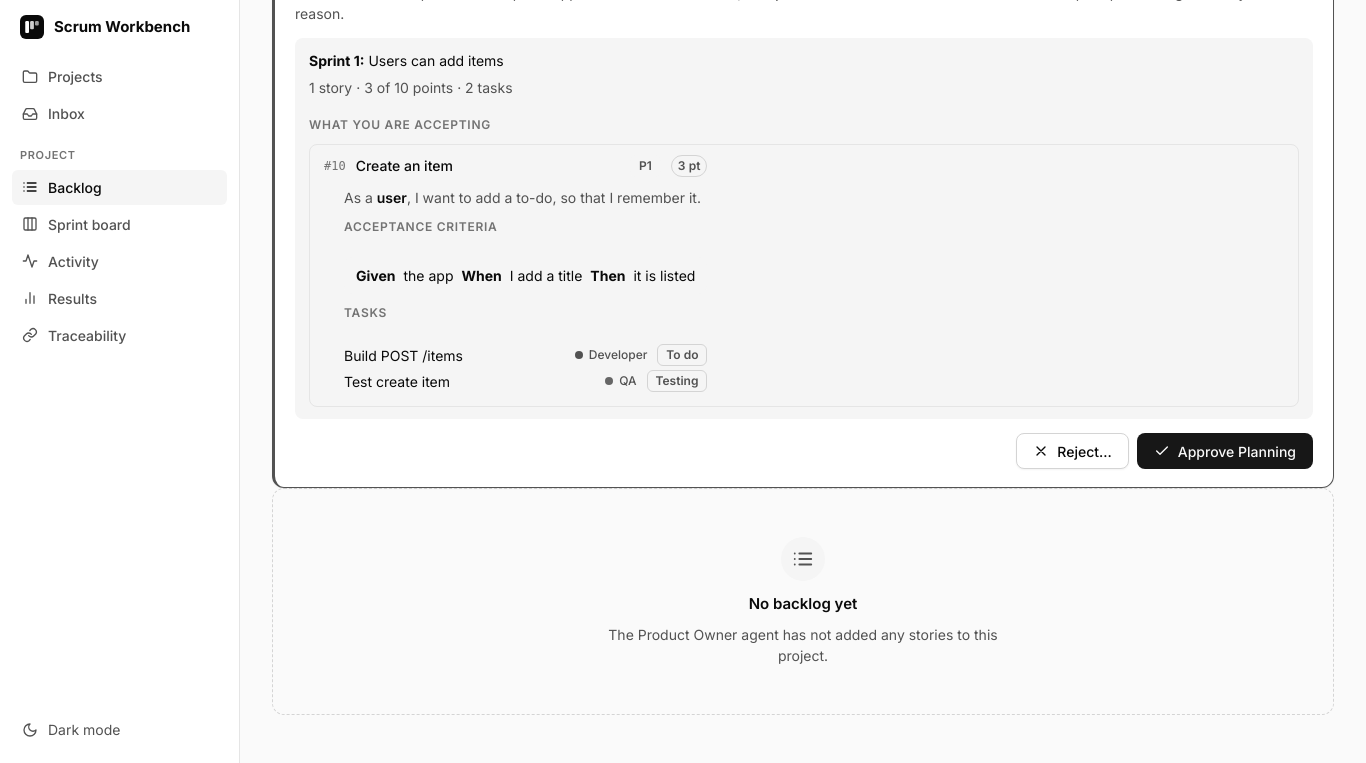
Test: phase controls › asks for approval at a gate and approves
This screenshot has width=1366, height=763.
(page scrolled)
Expected: the heading "What you are accepting" is shown, [309,116,491,132]
Expected: the heading "Acceptance criteria" is shown, [344,218,498,234]
What coordinates should you click on to do the following:
click the button "Approve Planning"
I would click on:
 (1225, 451)
Its box is [1137,433,1313,469].
(page scrolled)
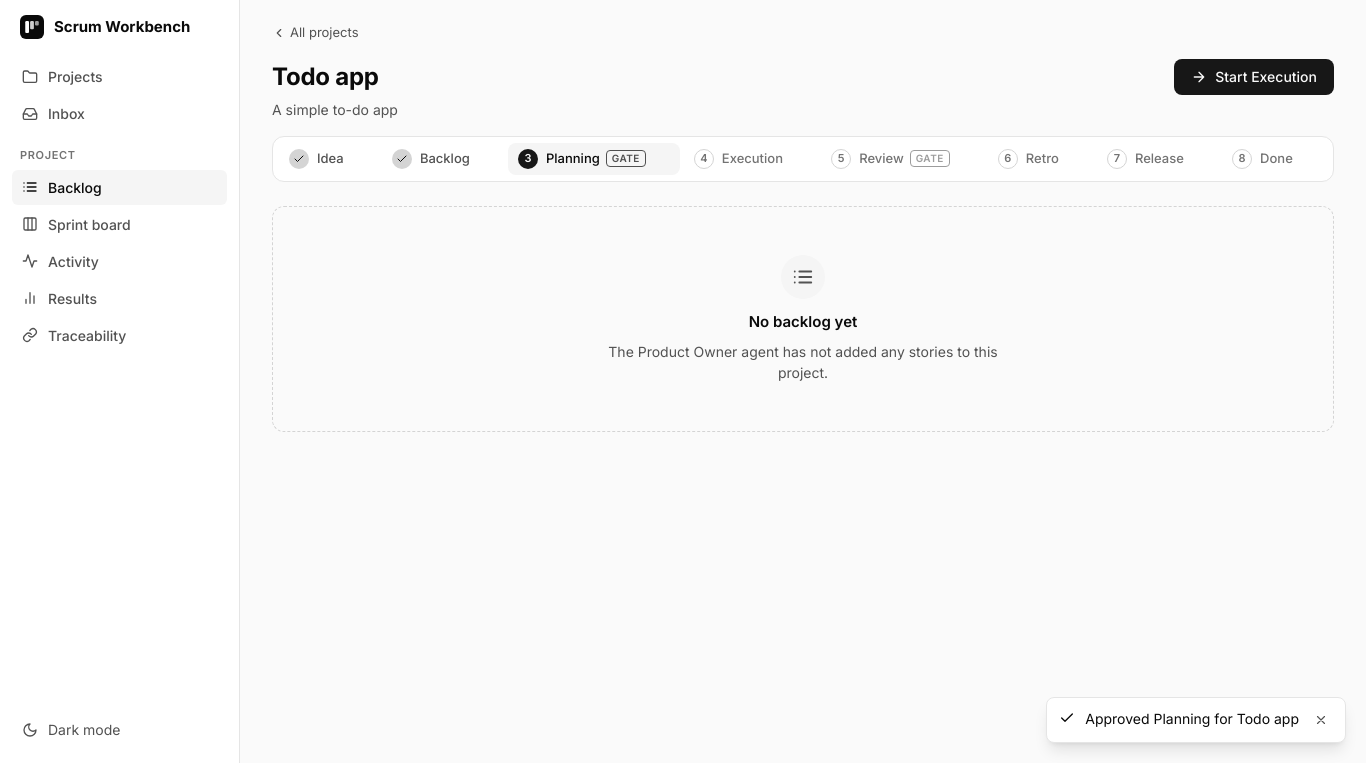
Expected: the button "Start Execution" is shown, [1174,58,1334,94]
Expected: the message shows "Approved", [1085,710,1299,727]
